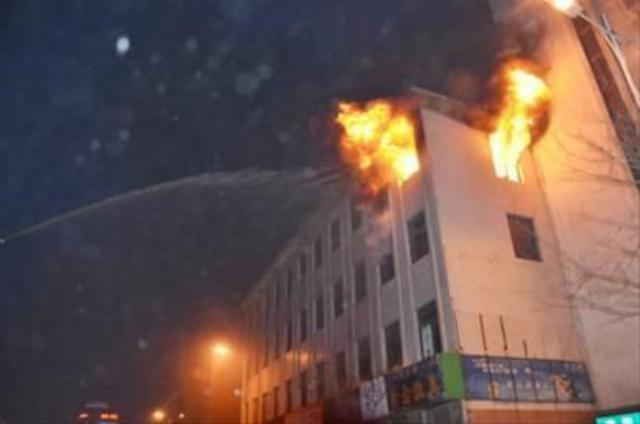fire: (335, 101, 417, 176), (498, 65, 546, 138), (488, 129, 518, 174)
